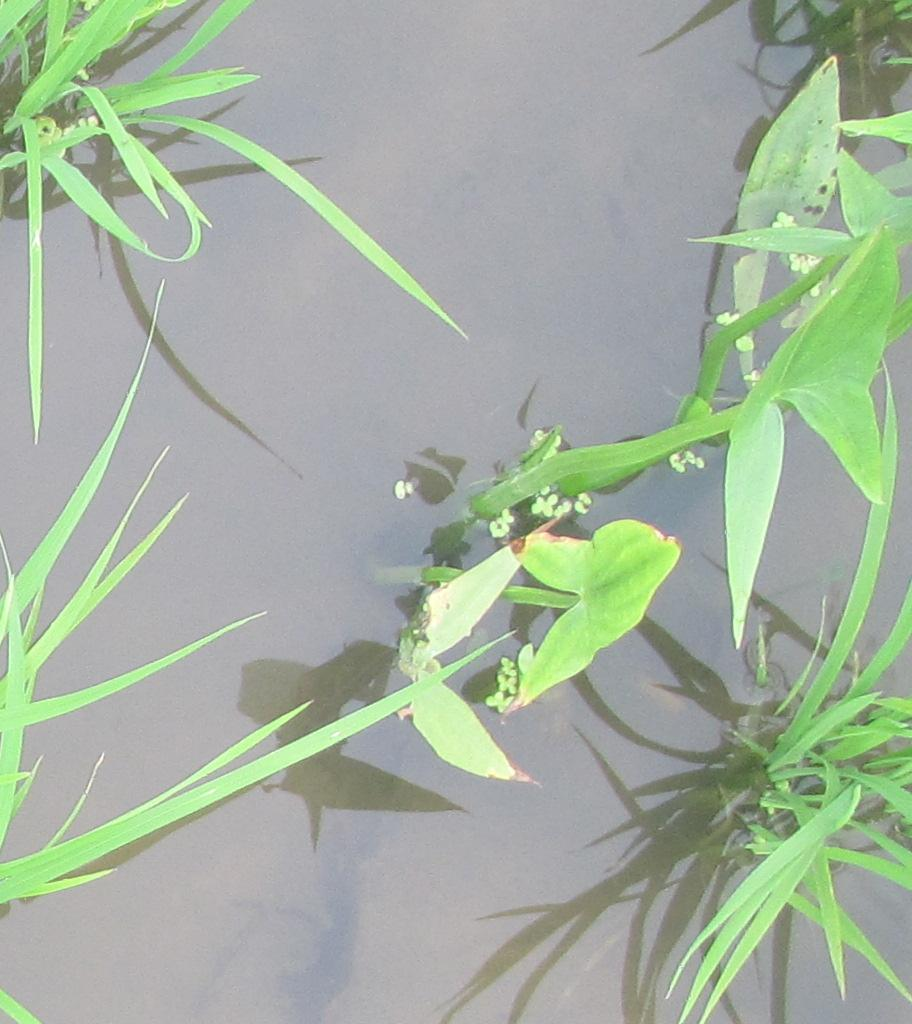Weed: (725, 136, 905, 617), (408, 519, 678, 775)
